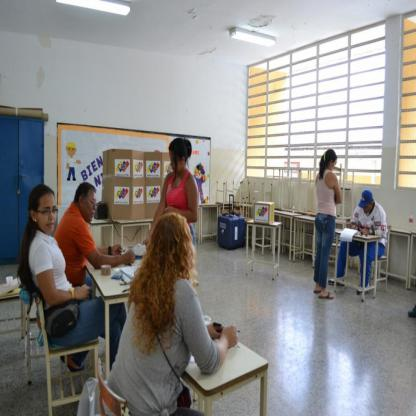face: (40, 197, 57, 231), (86, 189, 98, 221), (170, 149, 181, 174), (364, 201, 371, 213), (331, 158, 336, 170)
